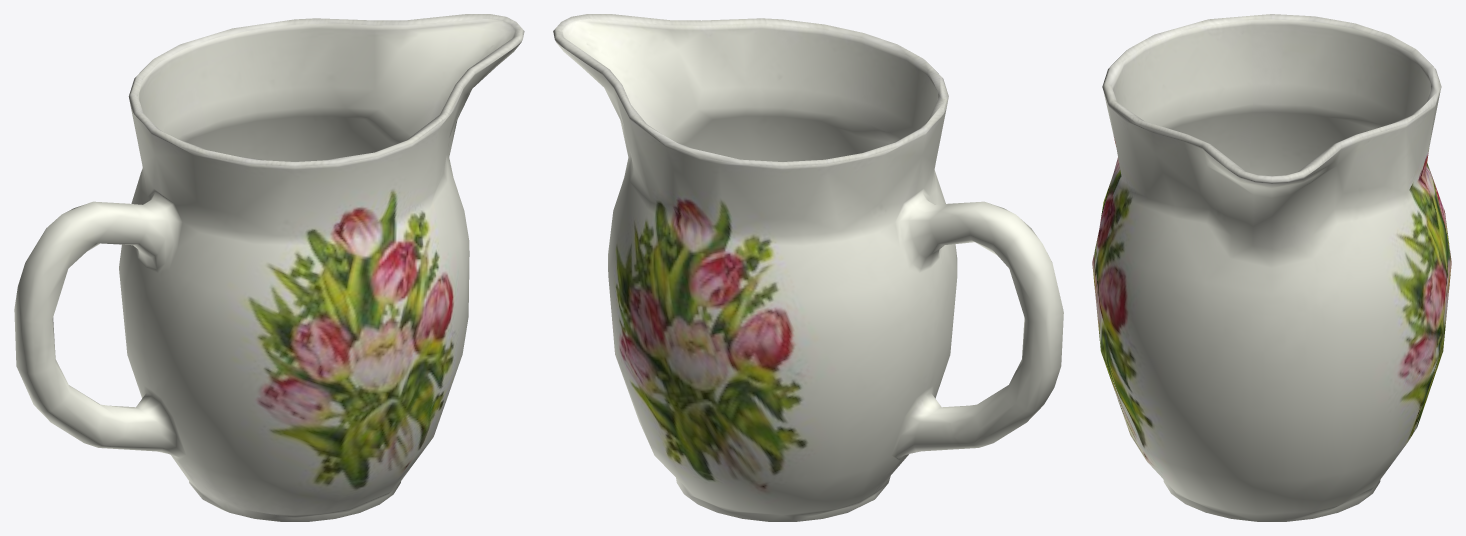
Rendered from jug_01.lod1.glb.
The picture shows the model from 3 angles, left to right: view 1: azimuth 30°, elevation 25°; view 2: azimuth 150°, elevation 25°; view 3: azimuth 270°, elevation 25°; orthographic projection. The views are drawn at different scales.
Parts seen in each view (by area): view 1: jug_01; view 2: jug_01; view 3: jug_01.
Boxes of the visible parts, left/top/right/bottom form: jug_01: left=14, top=14, right=524, bottom=521; jug_01: left=553, top=14, right=1063, bottom=521; jug_01: left=1092, top=14, right=1451, bottom=521.
Size of the model in its own units: 0.2747 by 0.2113 by 0.1675.
Materials: 1 (1 with a texture image).
